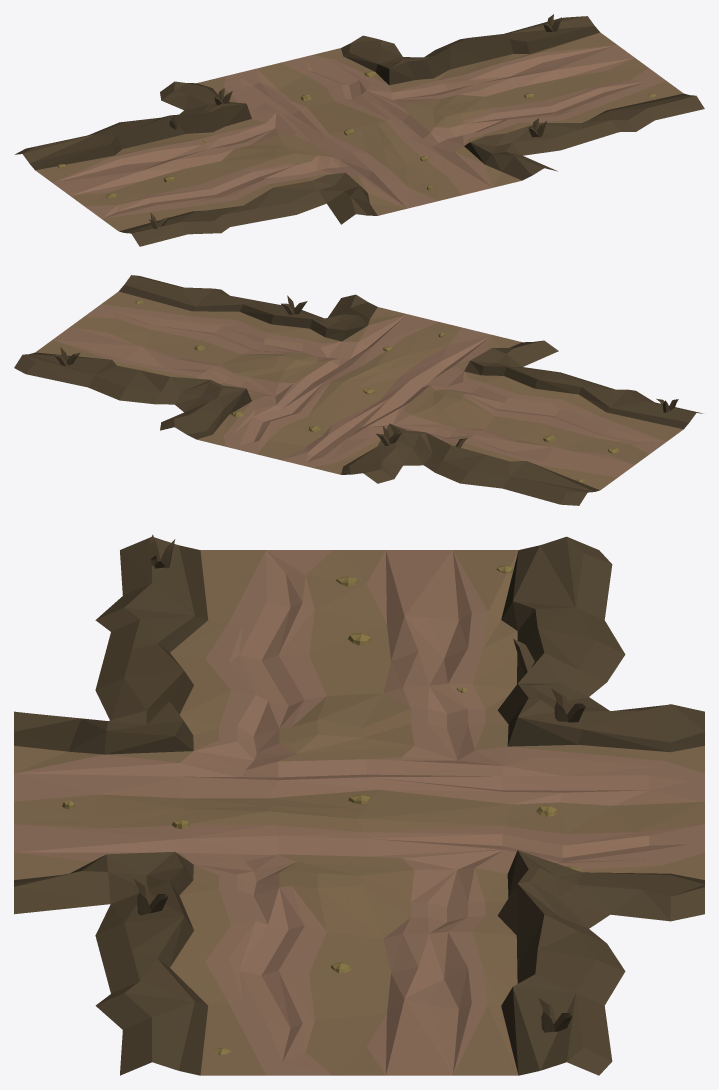
Rendered from SM_Env_Road_Cross_01.fbx.
3 views of the same model, one above another, from view 1: azimuth 30°, elevation 25°; view 2: azimuth 150°, elevation 25°; view 3: azimuth 270°, elevation 25° (orthographic). The views are drawn at different scales.
Parts seen in each view (by area): view 1: SM_Env_Road_Cross_01; view 2: SM_Env_Road_Cross_01; view 3: SM_Env_Road_Cross_01.
Boxes of the visible parts, x1,y1,x2,y2 form: SM_Env_Road_Cross_01: (14,14,704,246); SM_Env_Road_Cross_01: (14,275,702,505); SM_Env_Road_Cross_01: (14,534,704,1075).
Bounding box in the file's own units: 0.09 × 0.00418 × 0.05.
Materials: 1 (1 with a texture image).
